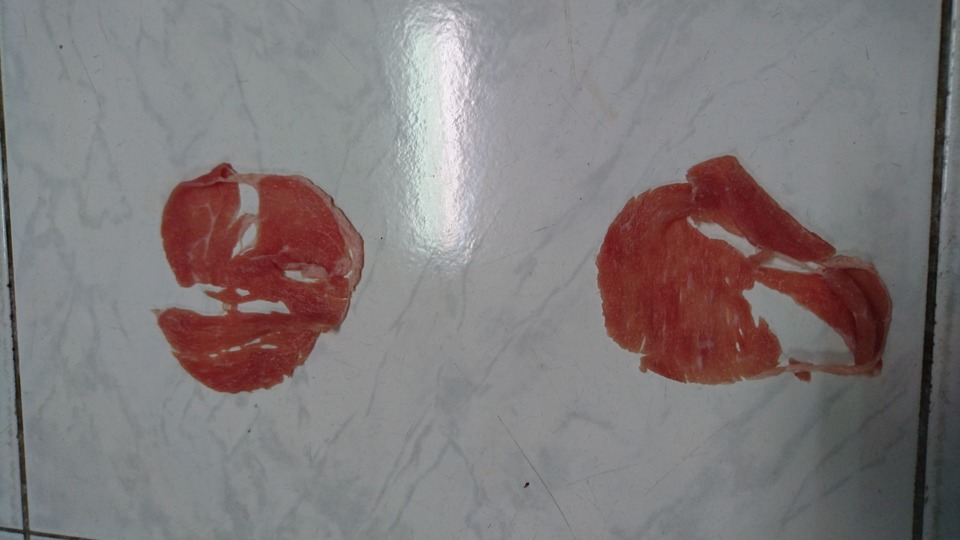restructured meat: (575, 156, 916, 408), (153, 169, 378, 398)
